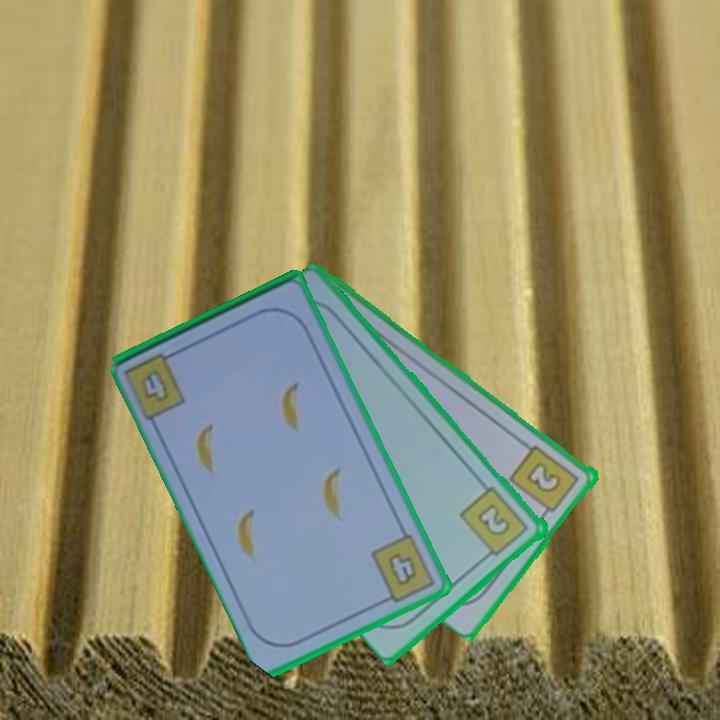2b: (506, 441, 583, 521), (457, 483, 532, 563)
4b: (367, 530, 439, 607), (137, 366, 173, 406)
